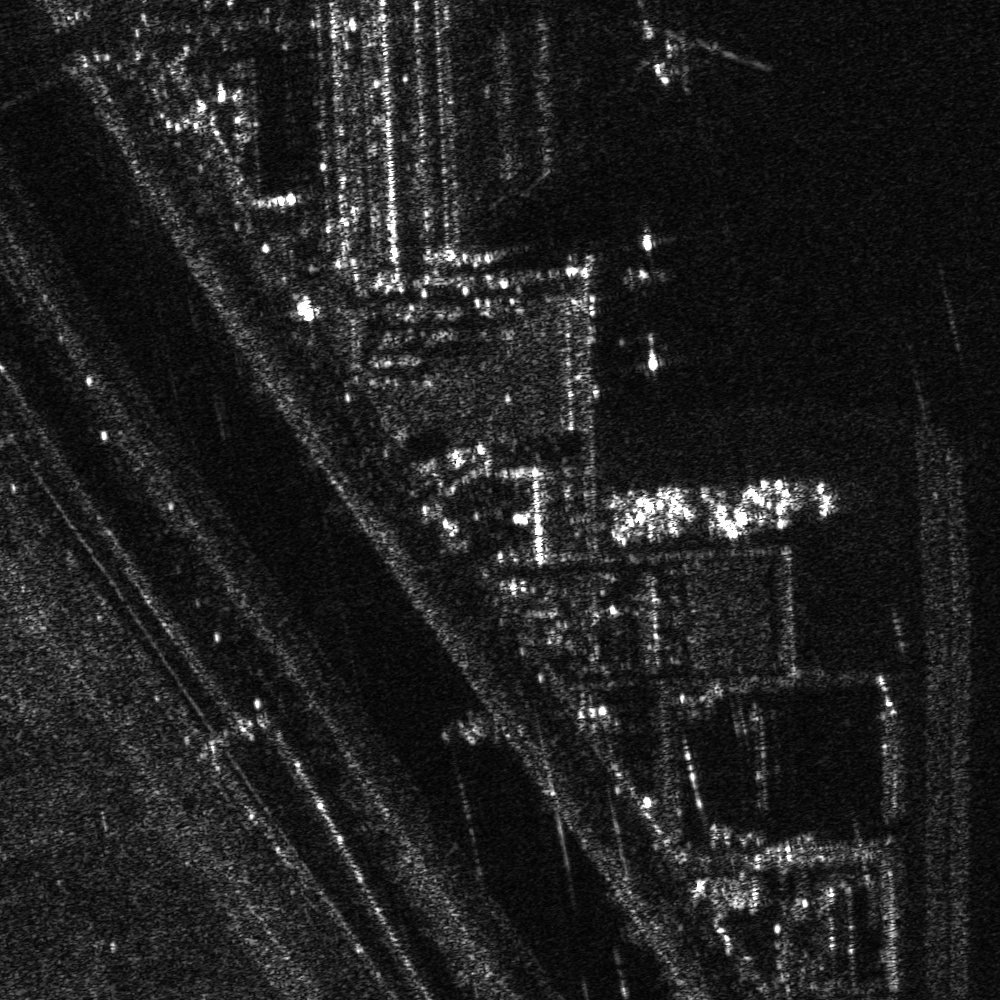A220: (646, 21, 741, 94)
